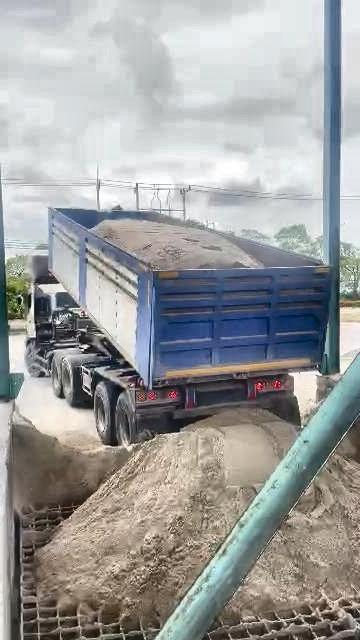sand: (39, 411, 295, 627), (222, 455, 360, 621), (9, 414, 131, 511), (92, 218, 262, 269), (302, 373, 340, 424), (337, 416, 360, 462)
